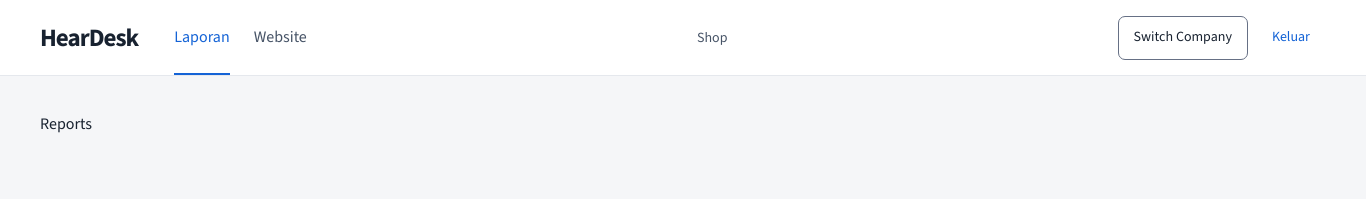
Scenario: preserves drafts and current page when Company logout fails
Click the button "Keluar": (1291, 38) [1256,16,1326,60]
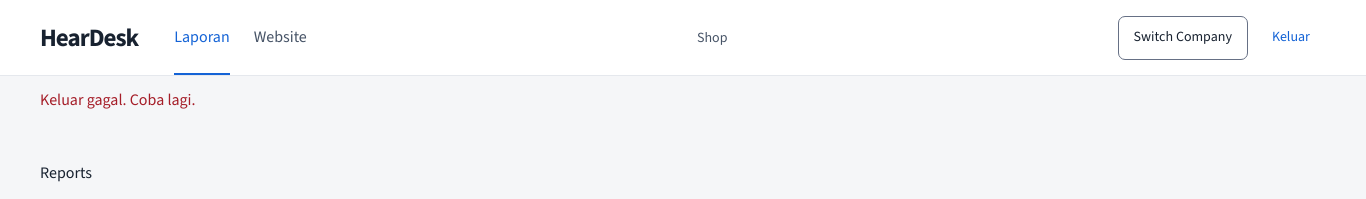
Check: the message "Keluar gagal. Coba lagi." is shown, box [40,89,196,110]
